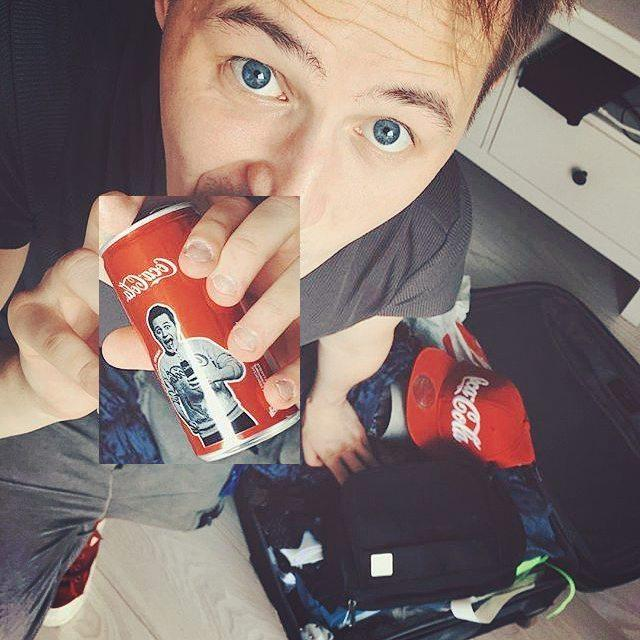coca-cola: (99, 196, 300, 464)
